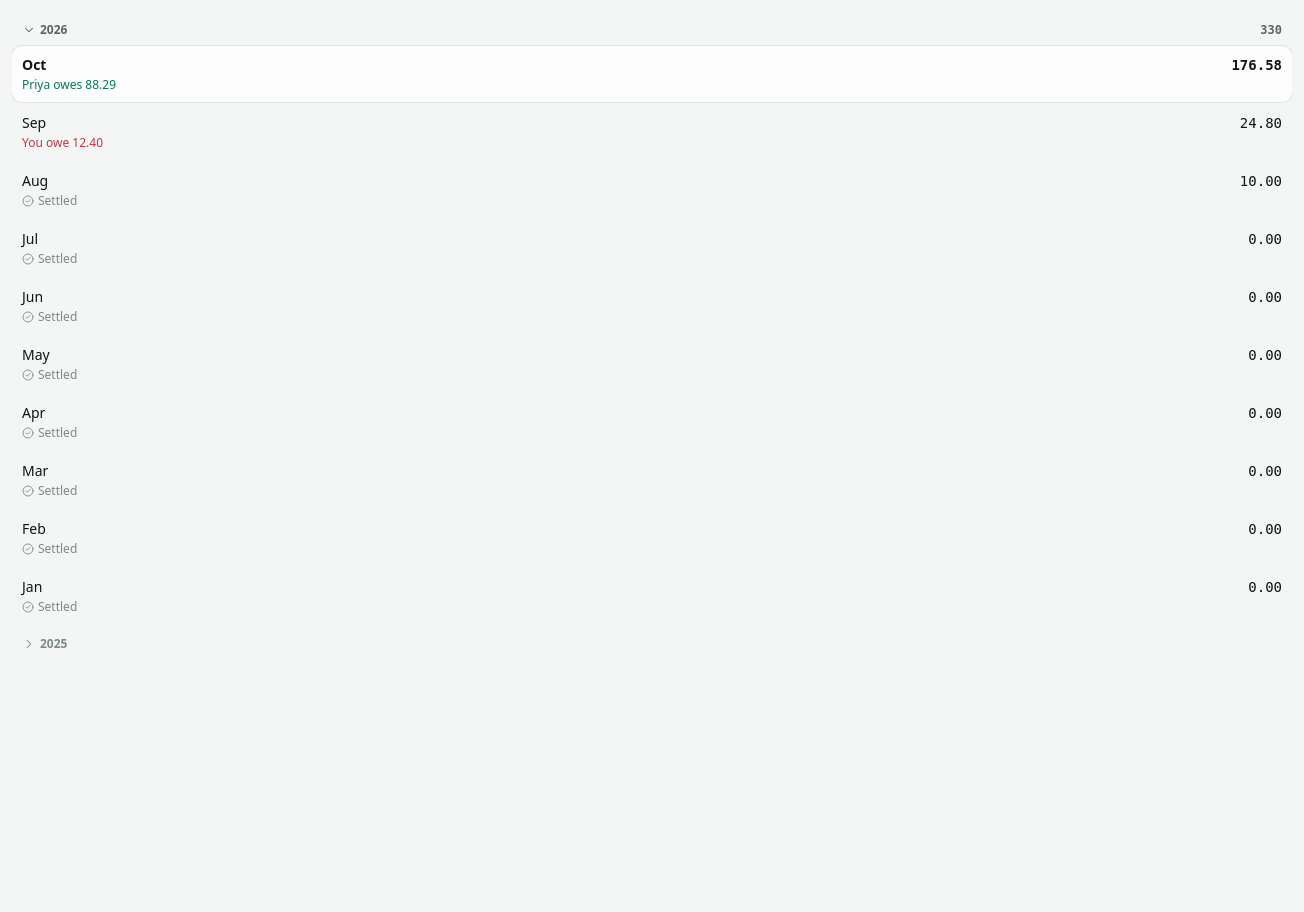
Test case: MonthRail › keeps older years collapsed and unfetched until expanded
Check: the button "Dec" is not shown
Click the button "2025" at (29, 644), box [12, 626, 1292, 658]
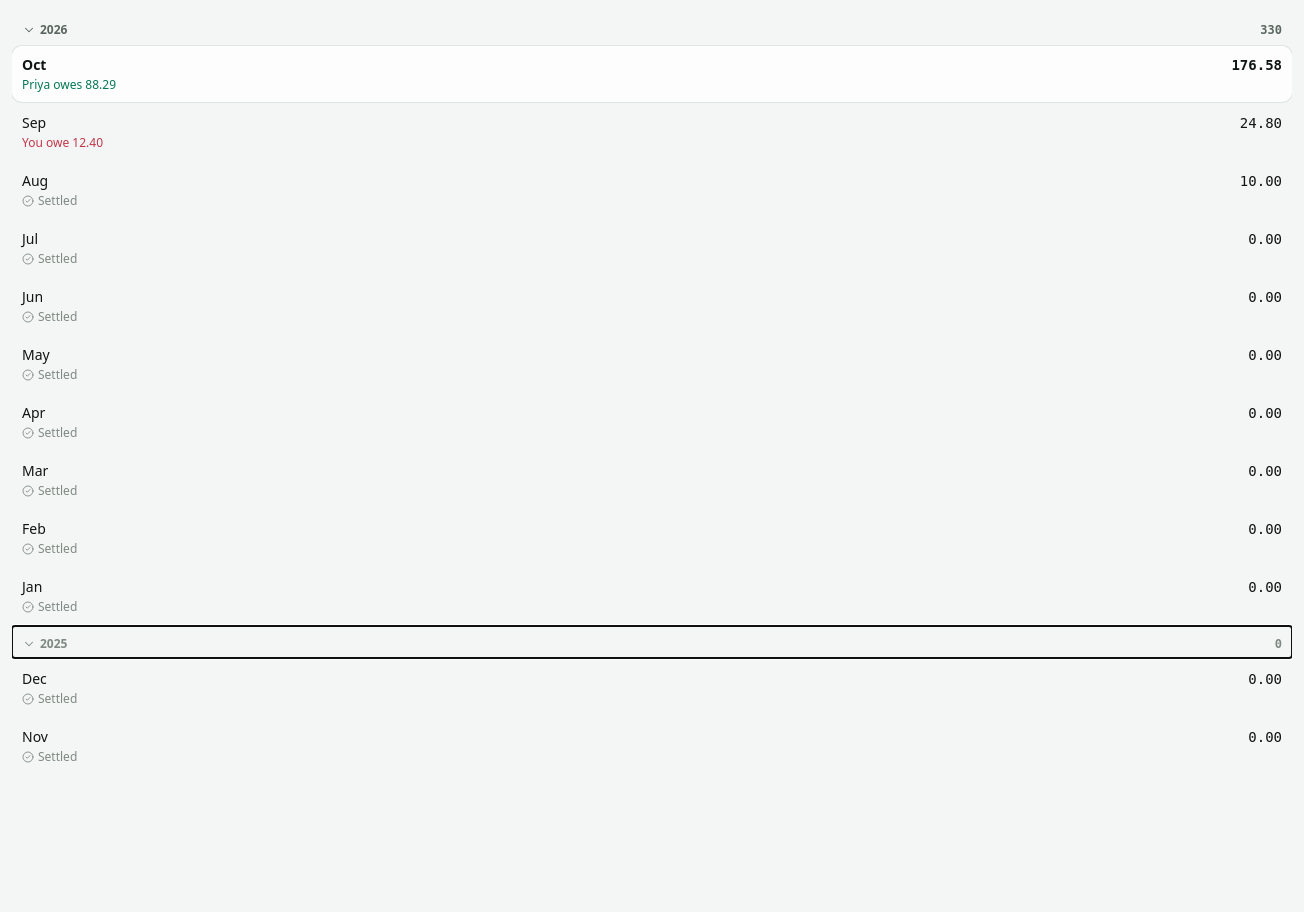
Check: the button "2025 0" is expanded, box [12, 626, 1292, 658]
